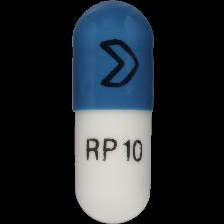68084-268: (0, 0, 224, 224)
